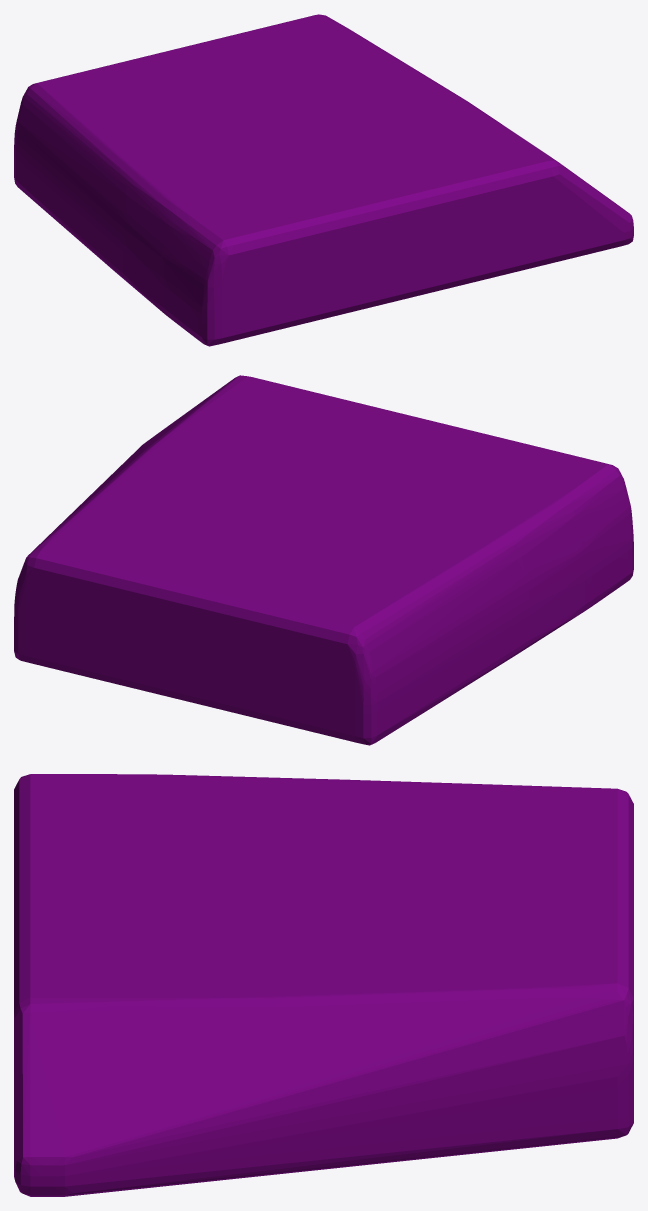
The model's file is left_shoulder_yaw_link_part_11.obj.
3 renders of one model, top to bottom at view 1: azimuth 30°, elevation 25°; view 2: azimuth 150°, elevation 25°; view 3: azimuth 270°, elevation 25°, orthographic. The views are drawn at different scales.
Size of the model in its own units: 0.0713 by 0.0163 by 0.0628.
